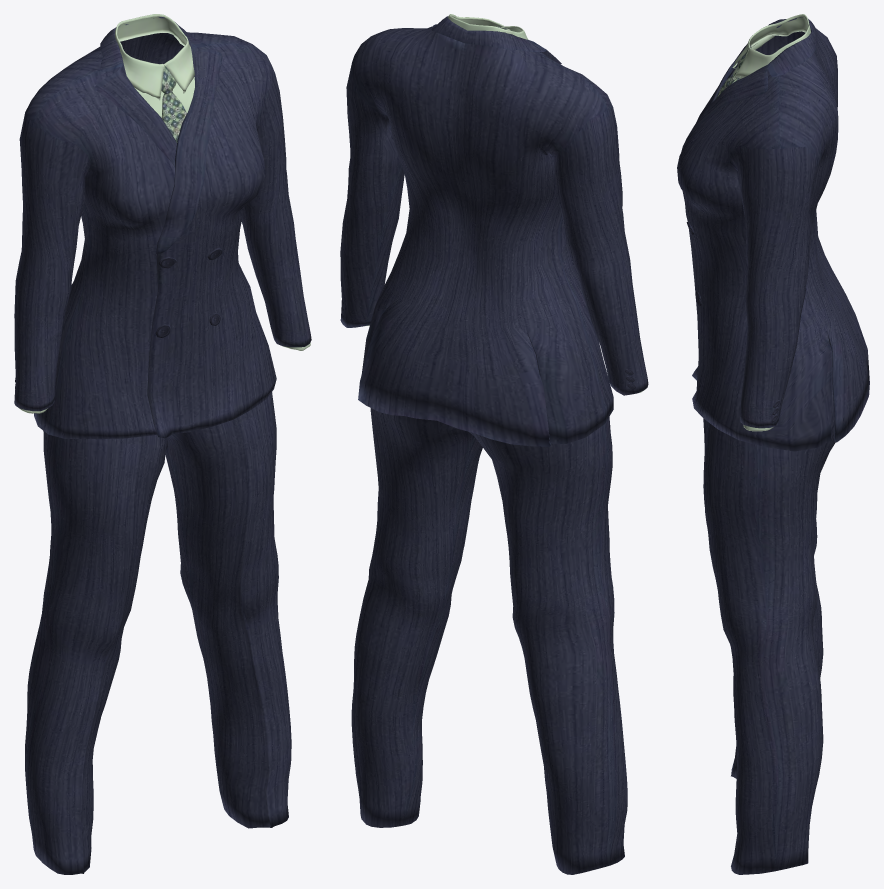
File: toigo-male-double-breasted-suit.glb
The picture shows the model from 3 angles, left to right: view 1: azimuth 30°, elevation 25°; view 2: azimuth 150°, elevation 25°; view 3: azimuth 270°, elevation 25°; orthographic projection. The views are drawn at different scales.
Visible parts, largest first — view 1: Human.toigo_male_double-breasted_suit; view 2: Human.toigo_male_double-breasted_suit; view 3: Human.toigo_male_double-breasted_suit.
Part boxes in pixels (bbox=[...]): Human.toigo_male_double-breasted_suit: bbox=[14, 14, 311, 874]; Human.toigo_male_double-breasted_suit: bbox=[340, 14, 648, 874]; Human.toigo_male_double-breasted_suit: bbox=[677, 14, 869, 874].
Size of the model in its own units: 0.519 by 1.37 by 0.3005.
1 material, 1 textured.
